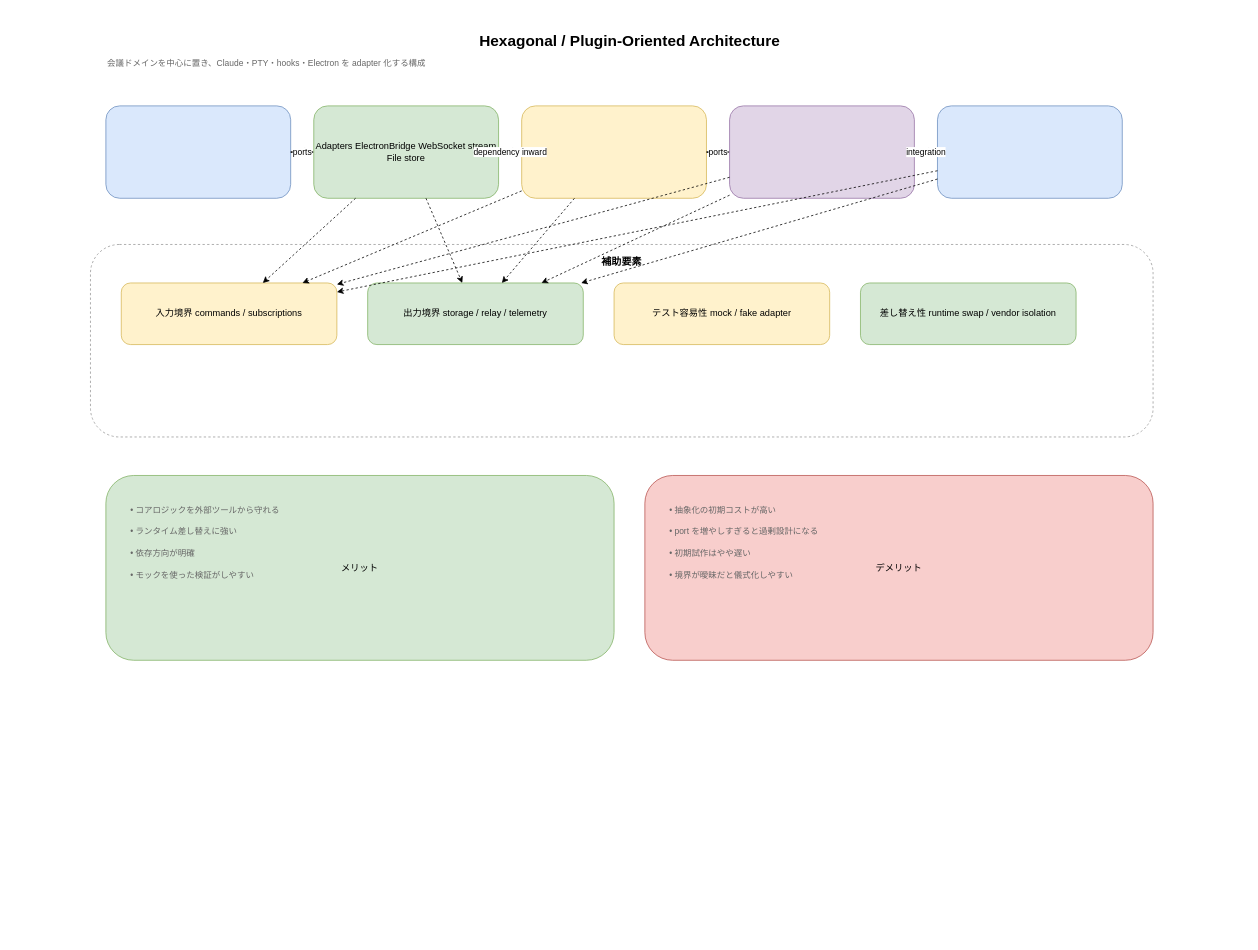
The diagram is 1258 pixels wide and 950 high, and some of its shapes have lost their labels. The shapes that lost their labels are listed below. From the top down, each one's centre as x and y in pixels, then its label:
At (198,151): "UI / External Clients Electron CLI future Web UI".
At (613,151): "Domain Core MeetingSession MeetingState PromptDeliveryState".
At (821,151): "Runtime Adapters ClaudeCodePtyAdapter HookRelayAdapter TerminalFallbackAdapter".
At (1029,151): "External Systems Claude Code FS hooks WebSocket".
